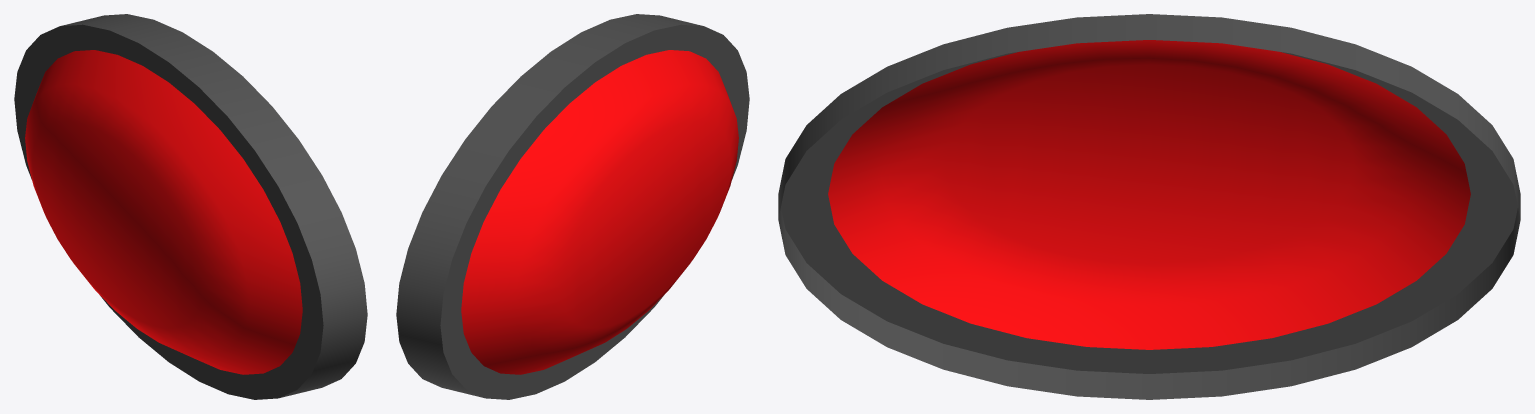
File: Lamp.fbx
3 renders of one model, left to right at view 1: azimuth 30°, elevation 25°; view 2: azimuth 150°, elevation 25°; view 3: azimuth 270°, elevation 25°, orthographic. The views are drawn at different scales.
Parts seen in each view (by area): view 1: Circle; view 2: Circle; view 3: Circle.
Boxes of the visible parts, bbox=[...] form: Circle: bbox=[14, 14, 367, 399]; Circle: bbox=[396, 14, 749, 399]; Circle: bbox=[778, 14, 1520, 399].
Size of the model in its own units: 7.11 by 21.4 by 39.99.
